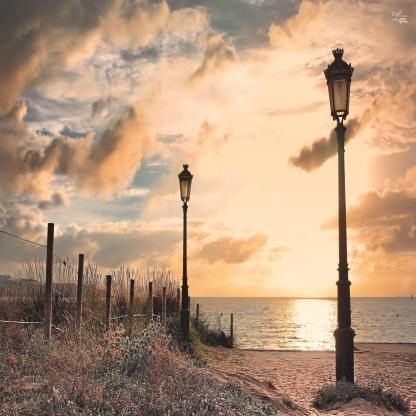light_pole: (324, 47, 354, 394), (177, 163, 194, 337)
